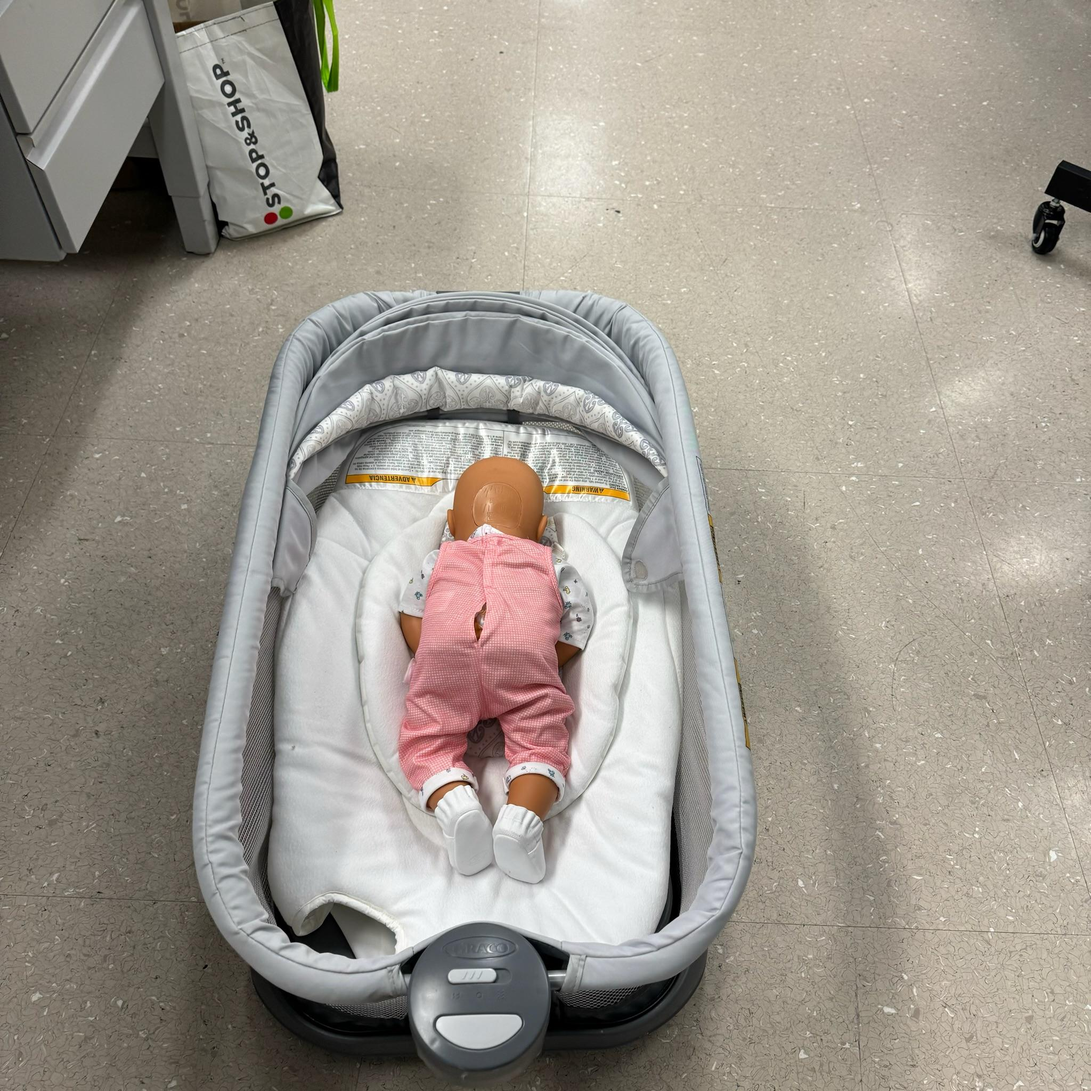baby: (389, 444, 598, 894)
